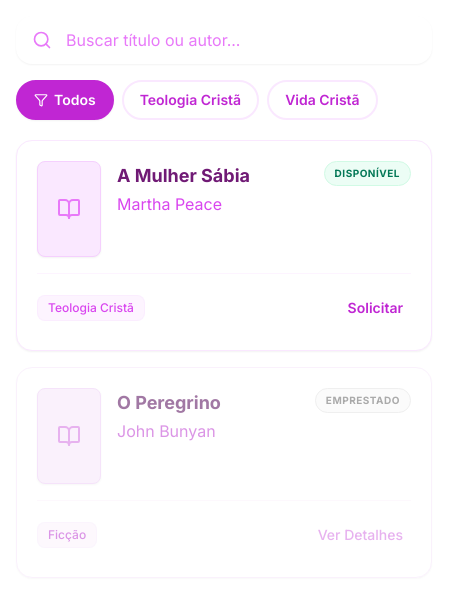
it: BookList Component › filters books by author when searching
Type "Martha" into the field with placeholder "Buscar título ou autor..." at (224, 40), box [16,16,432,64]
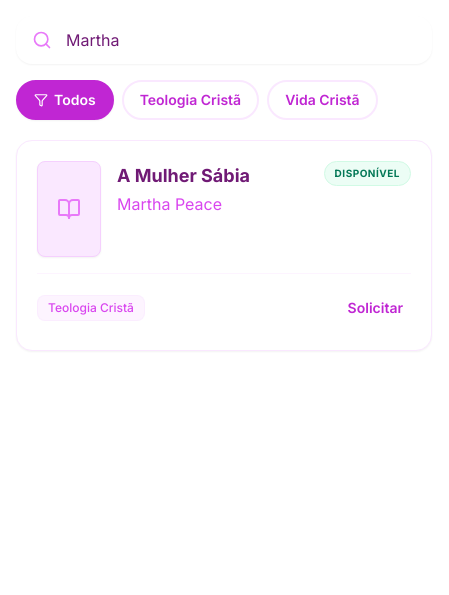
Expected: the heading "A Mulher Sábia" is shown, [117,165,250,188]
Expected: the heading "O Peregrino" is gone
